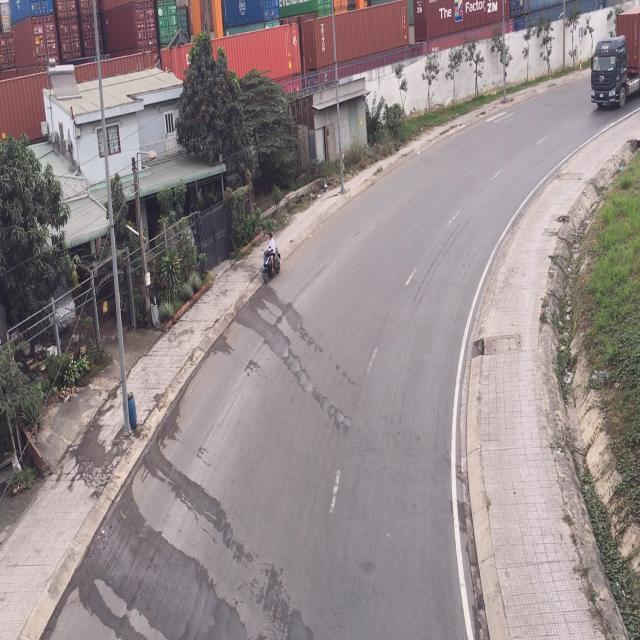motorbike: (264, 234, 283, 284)
truck: (591, 6, 640, 110)
